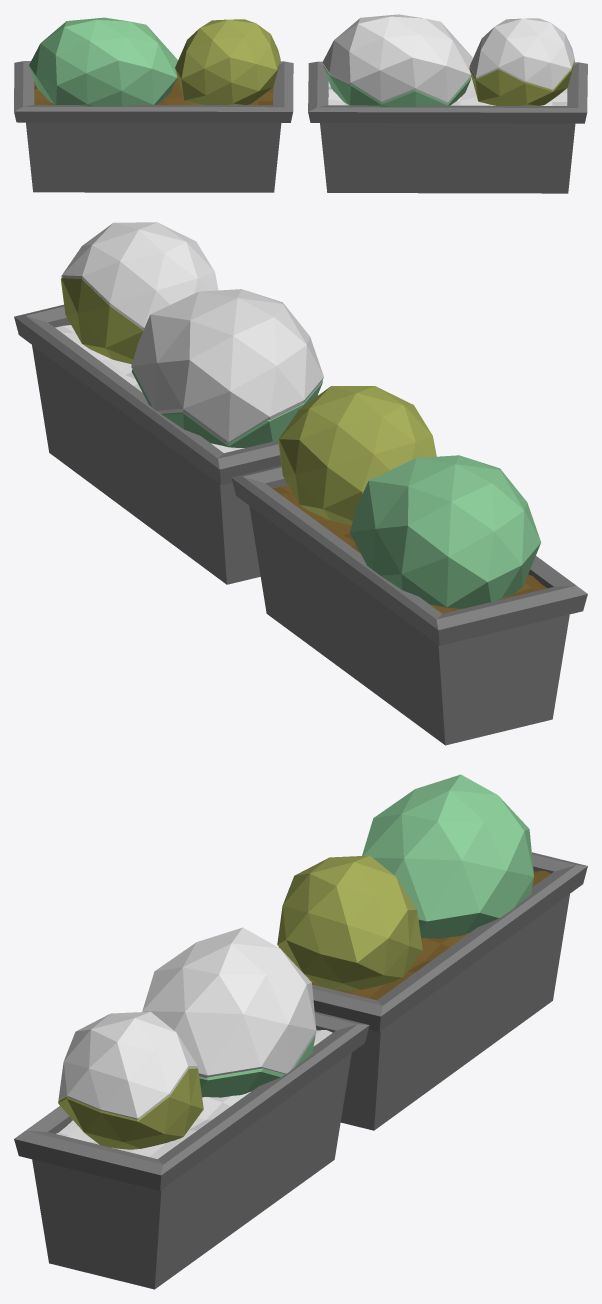
Rendered from Wide Plant (1).fbx.
3 renders of one model, top to bottom at view 1: azimuth 30°, elevation 25°; view 2: azimuth 150°, elevation 25°; view 3: azimuth 270°, elevation 25°, orthographic. The views are drawn at different scales.
Visible parts, largest first — view 1: snow_wide_plant, wide_plant; view 2: wide_plant, snow_wide_plant; view 3: snow_wide_plant, wide_plant.
Part boxes in pixels (x1,y1,x2,y2): snow_wide_plant: (308,14,587,193); wide_plant: (14,17,293,192); wide_plant: (231,386,587,745); snow_wide_plant: (14,222,323,584); snow_wide_plant: (14,927,369,1289); wide_plant: (277,774,587,1130).
Size of the model in its own units: 15.31 by 4.88 by 10.75.
